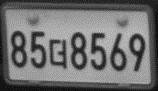5: (90, 32, 107, 70), (30, 30, 46, 68)
6: (108, 32, 127, 71)
8: (70, 31, 88, 69), (10, 30, 27, 67)
9: (128, 32, 146, 71)
더: (48, 38, 67, 69)
